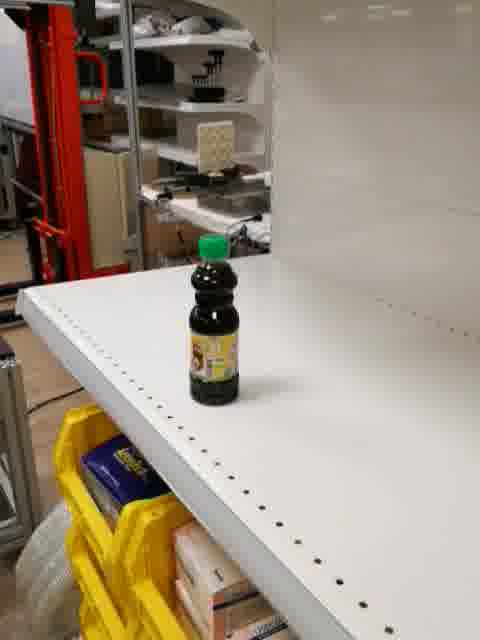cookingoil: (186, 228, 241, 408)
